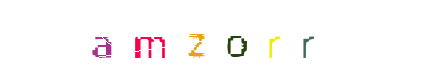A: (88, 0, 168, 80)
M: (108, 0, 188, 80)
O: (175, 0, 255, 80)
R: (180, 0, 260, 80), (215, 0, 295, 80)
Z: (154, 0, 234, 80)
